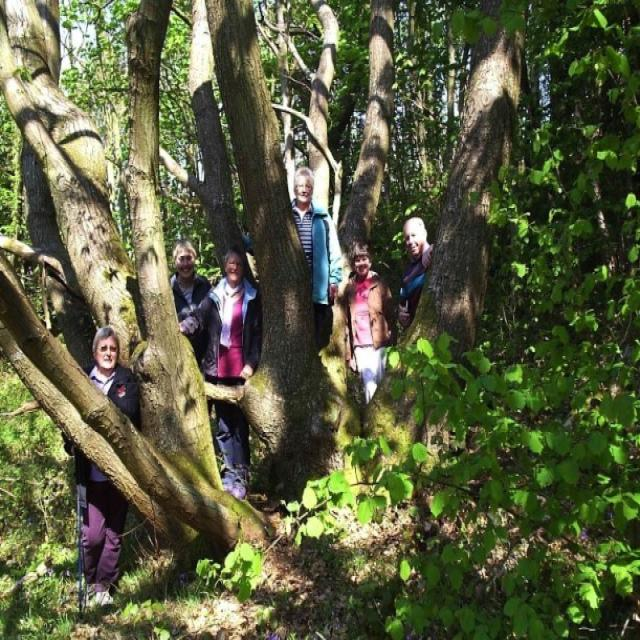body: (60, 322, 142, 606), (177, 243, 265, 501), (289, 164, 345, 355), (342, 238, 399, 406), (168, 237, 215, 372), (395, 214, 436, 330)
